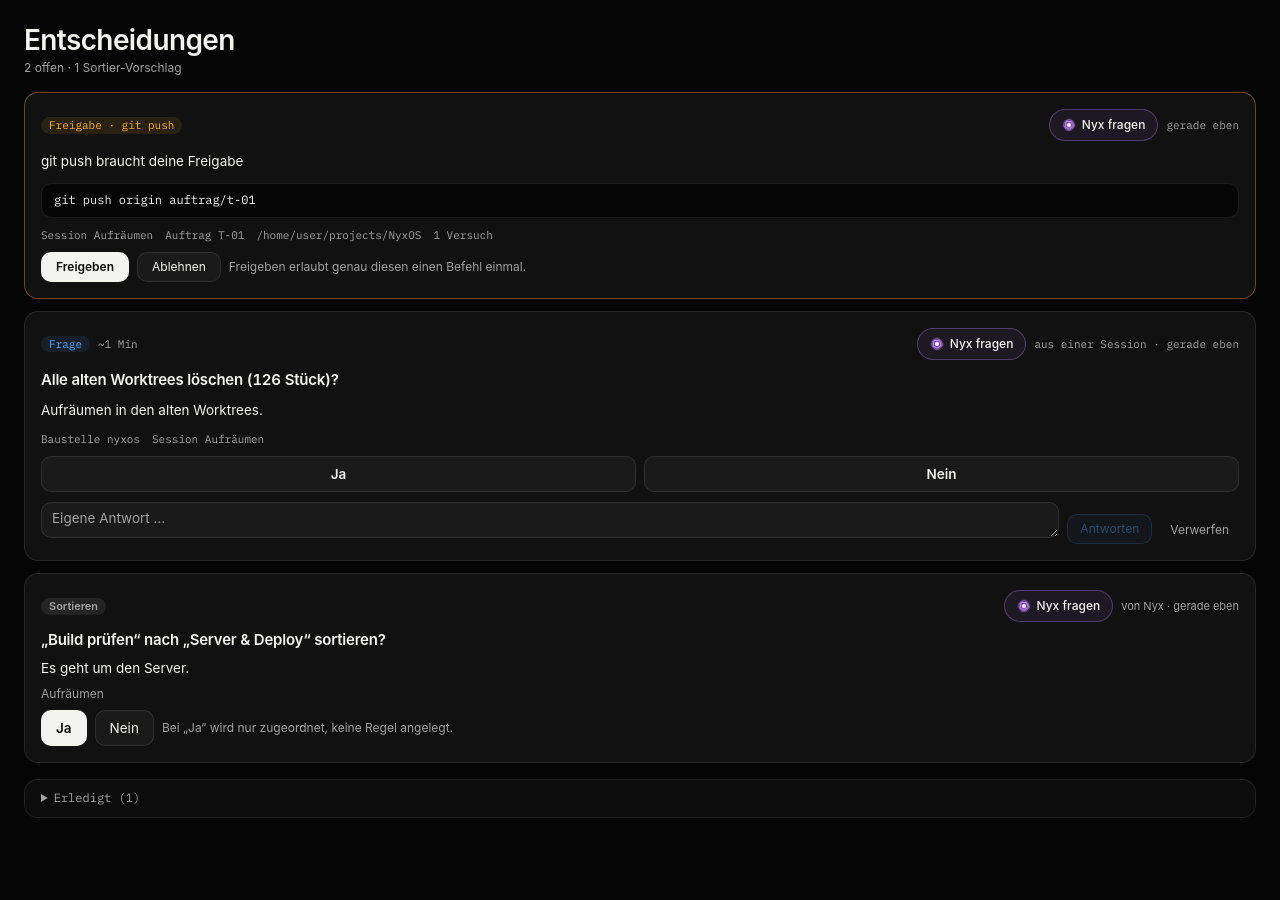
Test: Nyx fragen an jeder Karte › jede Karten-Art und jede erledigte Zeile hat „Nyx fragen“
Expected: the button "Nyx fragen" in the row of "Freigabe · git push" is shown, x1=1049 y1=109 x2=1158 y2=141
Expected: the button "Nyx fragen" next to "aus einer Session" is shown, x1=917 y1=328 x2=1026 y2=360
Click the heading "Erledigt (1)".
click(97, 798)  # box x1=54 y1=790 x2=140 y2=806
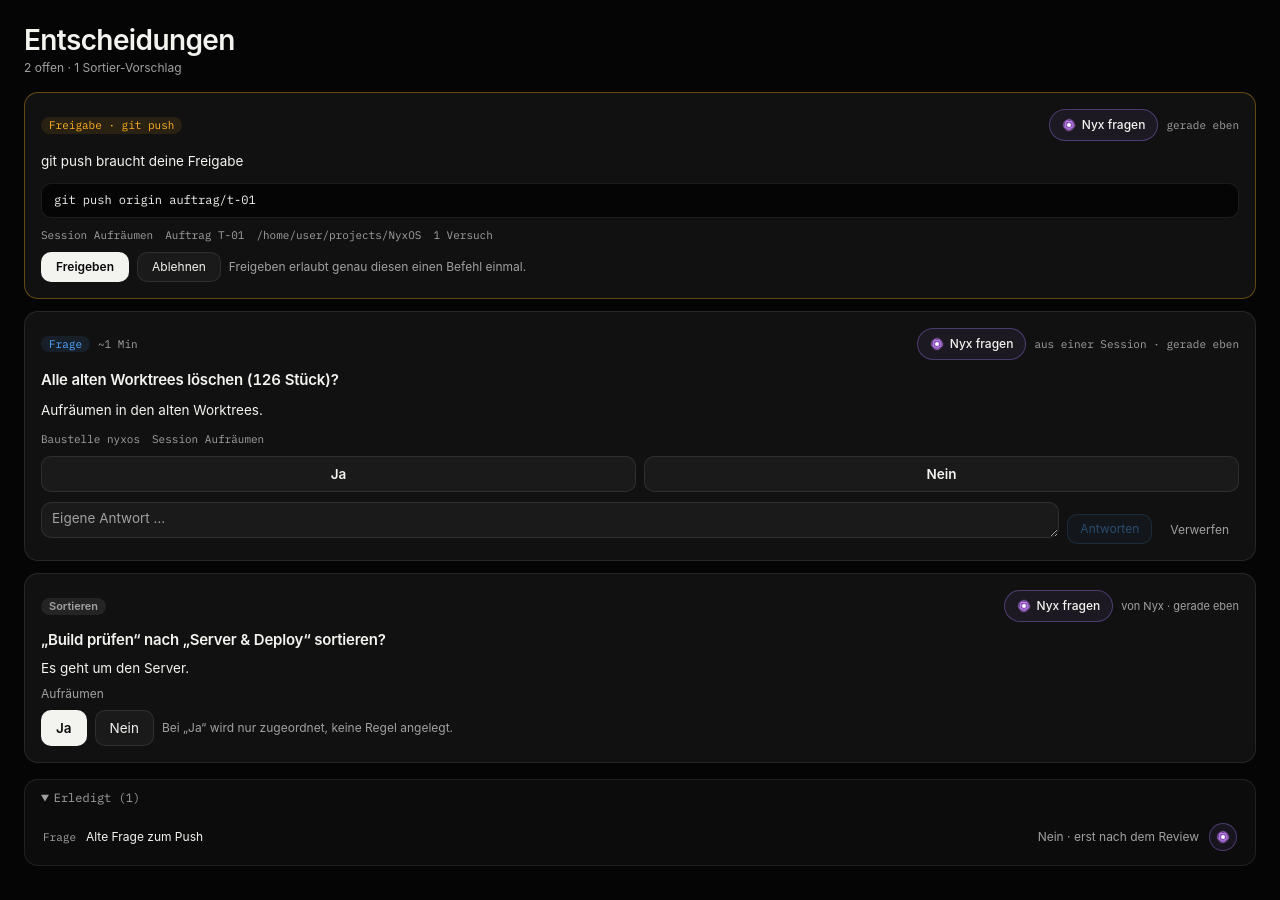
Expected: the button named "Nyx fragen" is shown, x1=1209 y1=823 x2=1237 y2=851
